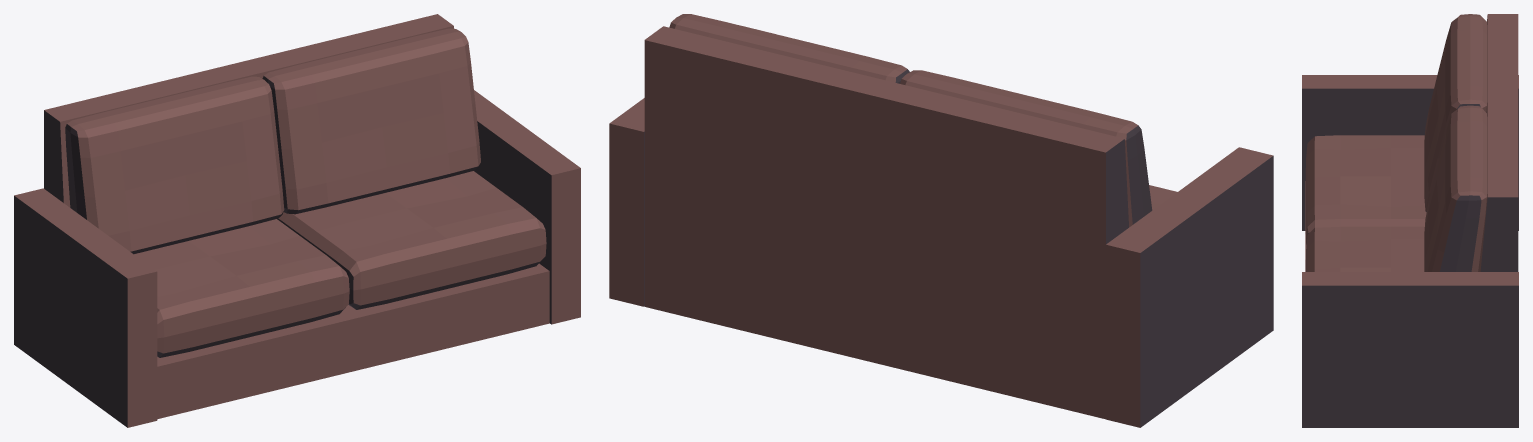
The model's file is Sofa Double.fbx.
3 renders of one model, left to right at view 1: azimuth 30°, elevation 25°; view 2: azimuth 150°, elevation 25°; view 3: azimuth 270°, elevation 25°, orthographic. The views are drawn at different scales.
Visible parts, largest first — view 1: Sofa Double; view 2: Sofa Double; view 3: Sofa Double.
Boxes of the visible parts, bbox=[...] form: Sofa Double: bbox=[14, 14, 580, 427]; Sofa Double: bbox=[609, 14, 1273, 427]; Sofa Double: bbox=[1302, 14, 1518, 427].
Bounding box in the file's own units: 460 × 223 × 200.
